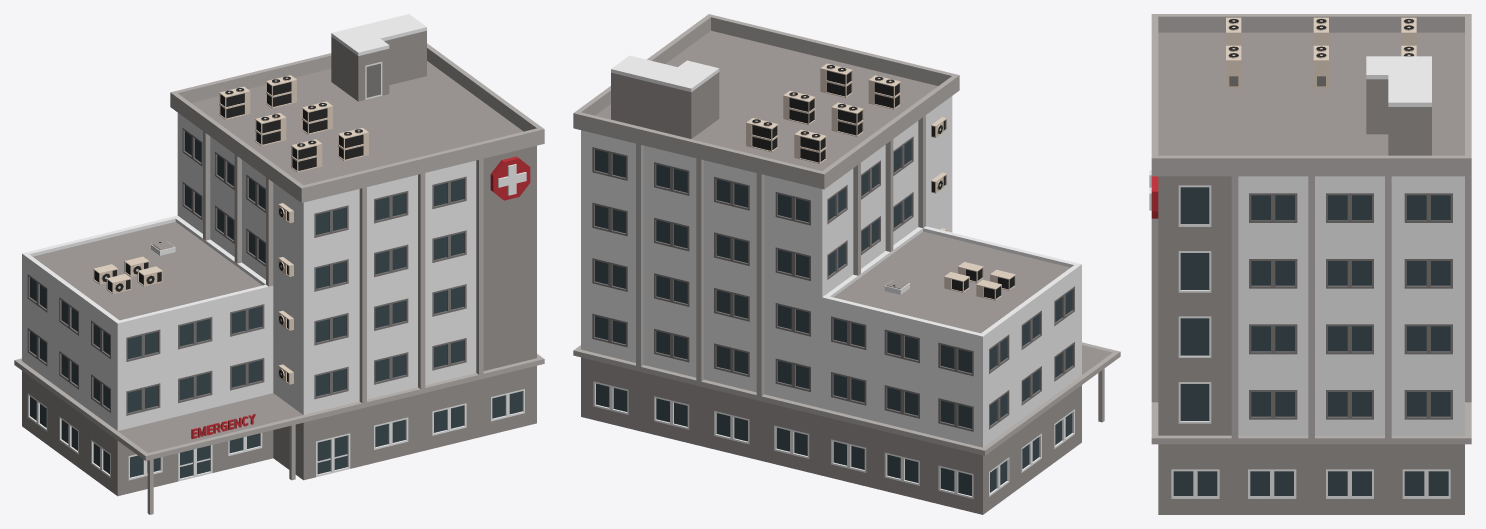
File: buildings_building-hospital.fbx
3 views of the same model, side by side, from view 1: azimuth 30°, elevation 25°; view 2: azimuth 150°, elevation 25°; view 3: azimuth 270°, elevation 25° (orthographic). The views are drawn at different scales.
Visible parts, largest first — view 1: buildings_building_hospital; view 2: buildings_building_hospital; view 3: buildings_building_hospital.
Boxes of the visible parts, x1,y1,x2,y2 form: buildings_building_hospital: (14,14,544,514); buildings_building_hospital: (573,14,1120,514); buildings_building_hospital: (1149,14,1471,514).
Bounding box in the file's own units: 200 × 159 × 115.
